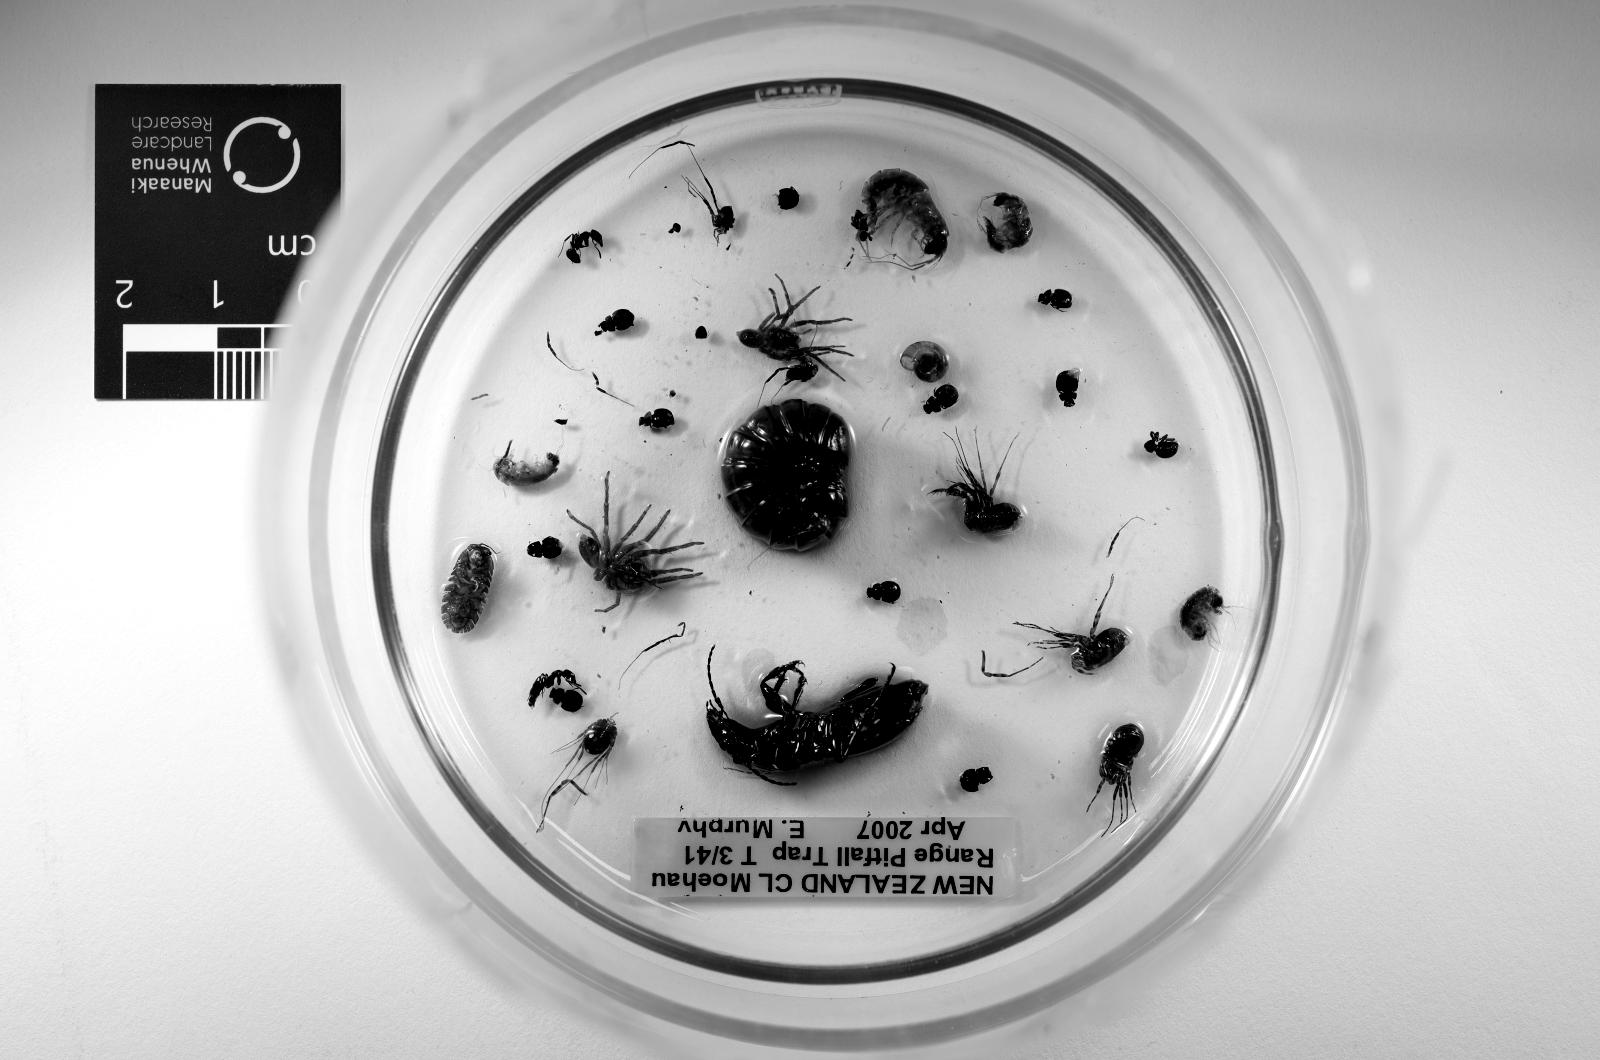amphipoda: (862, 168, 947, 260), (984, 193, 1031, 252), (1178, 587, 1225, 646), (494, 447, 559, 487)
araneae: (578, 476, 700, 608), (738, 292, 847, 386)
coleoptera: (597, 308, 634, 336), (550, 686, 584, 715), (1056, 369, 1081, 407), (1144, 432, 1178, 459), (925, 386, 959, 413), (959, 767, 993, 791), (525, 537, 563, 558), (1037, 289, 1071, 310), (866, 581, 900, 602), (637, 409, 675, 428), (850, 211, 872, 243)
formicidae: (529, 671, 578, 707), (565, 230, 603, 264)
gastropoda: (900, 342, 950, 382)
isopoda: (721, 397, 853, 550), (441, 543, 494, 634)
opiliones: (931, 435, 1022, 535), (1018, 608, 1132, 674), (1097, 724, 1144, 829), (563, 720, 618, 783), (687, 177, 734, 245)
